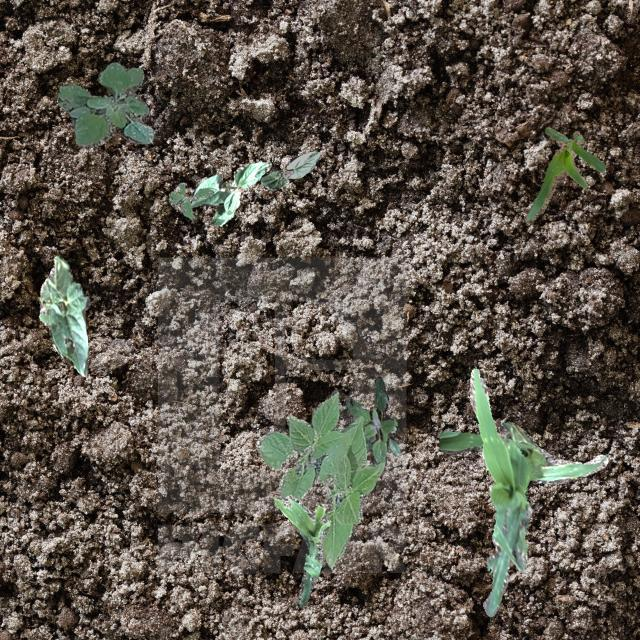crop: (255, 389, 382, 566), (468, 368, 530, 616), (438, 420, 606, 482), (524, 126, 604, 222), (274, 494, 329, 606), (38, 254, 88, 374), (190, 160, 270, 224), (260, 150, 320, 190)
weed: (56, 61, 154, 146), (346, 376, 400, 466), (168, 182, 212, 218)
